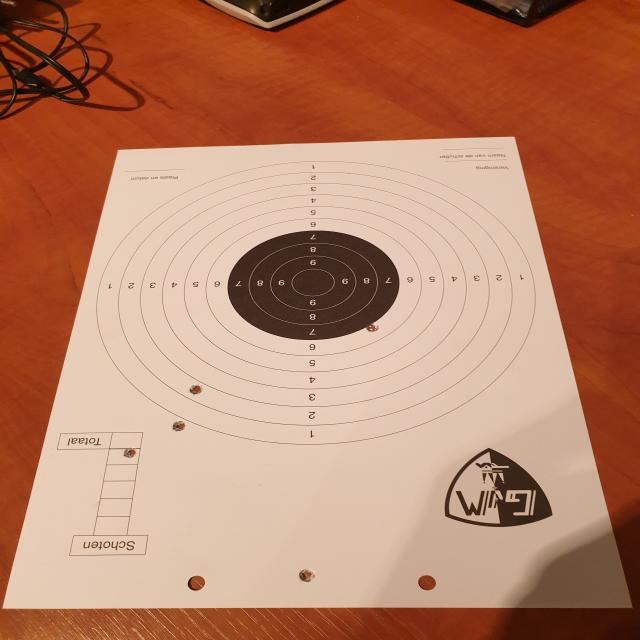0: (298, 569, 317, 583), (121, 446, 138, 459), (171, 419, 187, 432)
2: (188, 382, 204, 397)
7: (364, 322, 380, 333)
Target: (95, 158, 538, 448)
black_contour: (228, 230, 400, 340)
